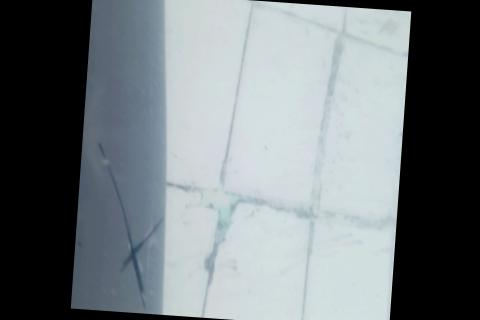keretakan: (82, 139, 167, 309)
